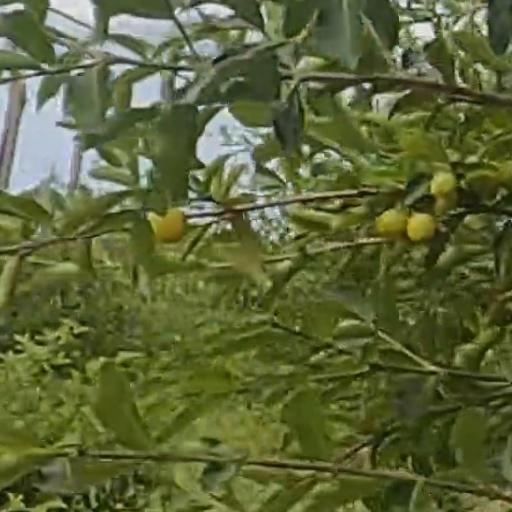acerola: (152, 212, 187, 244), (377, 209, 405, 235), (408, 214, 431, 241)
